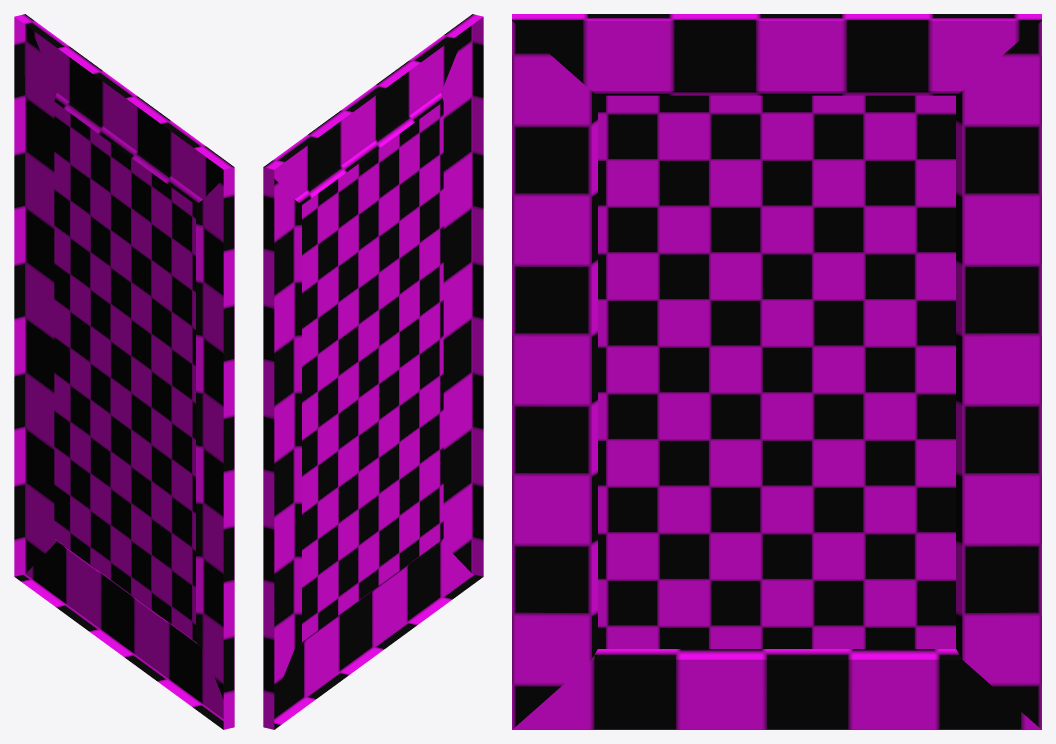
Rendered from BedroomPictures 2.fbx.
3 renders of one model, left to right at view 1: azimuth 30°, elevation 25°; view 2: azimuth 150°, elevation 25°; view 3: azimuth 270°, elevation 25°, orthographic. The views are drawn at different scales.
Parts seen in each view (by area): view 1: BedroomPictures 2; view 2: BedroomPictures 2; view 3: BedroomPictures 2.
Part boxes in pixels (box(x1,y1,x2,y2)): BedroomPictures 2: box(14, 14, 234, 729); BedroomPictures 2: box(263, 14, 483, 729); BedroomPictures 2: box(512, 14, 1041, 729).
Size of the model in its own units: 0.0206 by 1 by 0.6803.
1 material, 1 textured.
